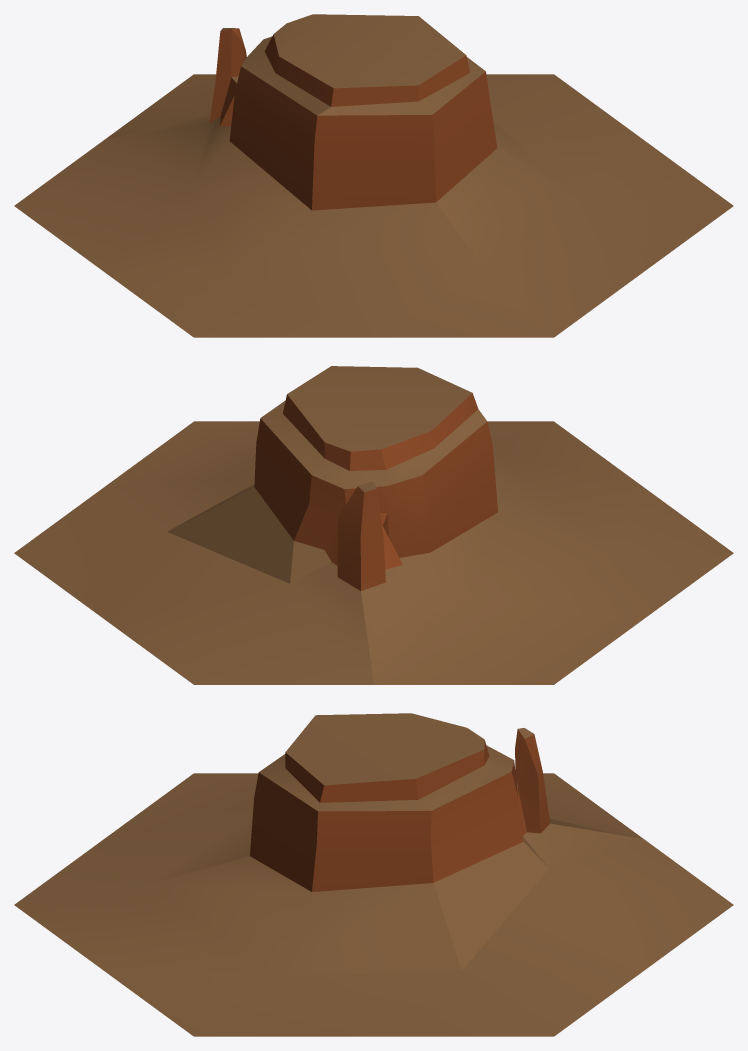
File: temperateDesert.glb
The picture shows the model from 3 angles, top to bottom: view 1: azimuth 30°, elevation 25°; view 2: azimuth 150°, elevation 25°; view 3: azimuth 270°, elevation 25°; orthographic projection.
Parts seen in each view (by area): view 1: Temperate Desert Terrain; view 2: Temperate Desert Terrain; view 3: Temperate Desert Terrain.
Part boxes in pixels (<box>): Temperate Desert Terrain: <box>14,14,733,337</box>; Temperate Desert Terrain: <box>14,366,733,684</box>; Temperate Desert Terrain: <box>14,713,733,1036</box>.
Size of the model in its own units: 1.73 by 0.4854 by 2.
